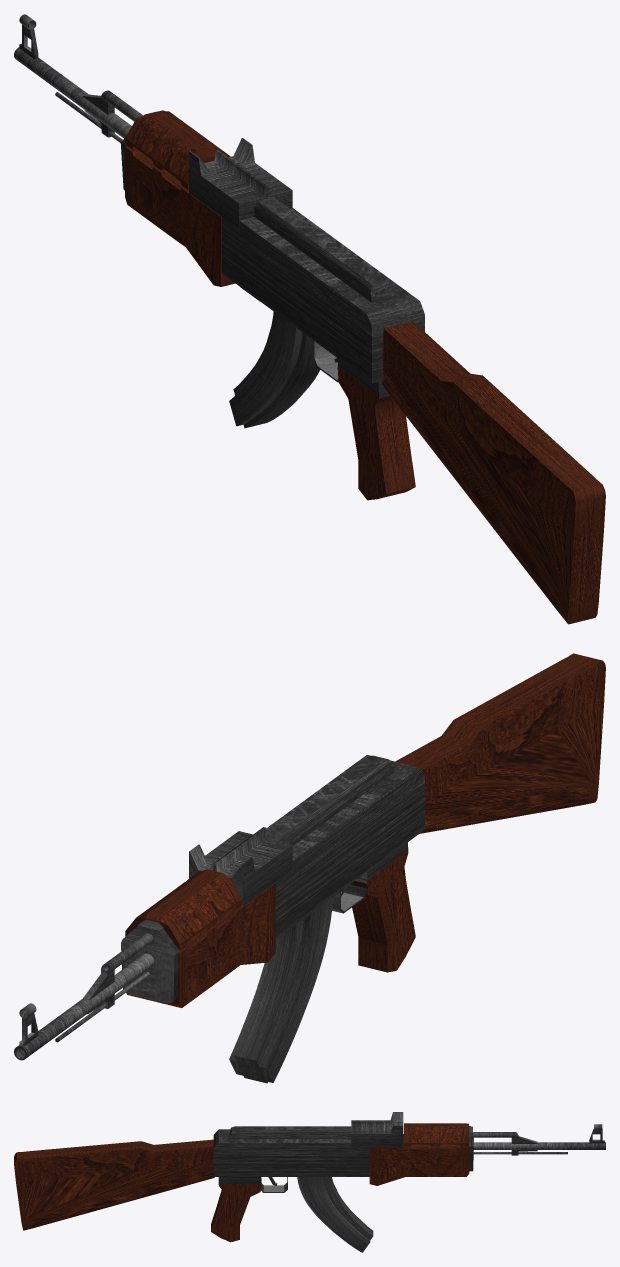
The picture shows the model from 3 angles, top to bottom: view 1: azimuth 30°, elevation 25°; view 2: azimuth 150°, elevation 25°; view 3: azimuth 270°, elevation 25°; orthographic projection. The views are drawn at different scales.
Visible parts, largest first — view 1: polySurface4, polySurface2; view 2: polySurface4, polySurface2; view 3: polySurface4, polySurface2.
Part boxes in pixels (x1,y1,x2,y2): polySurface4: (125, 110, 605, 624); polySurface2: (14, 14, 424, 428); polySurface4: (125, 653, 605, 1007); polySurface2: (14, 755, 424, 1083); polySurface4: (14, 1123, 469, 1242); polySurface2: (213, 1112, 605, 1252).
Size of the model in its own units: 2.39 by 10.54 by 43.25.
Materials: 3 (2 with a texture image).
